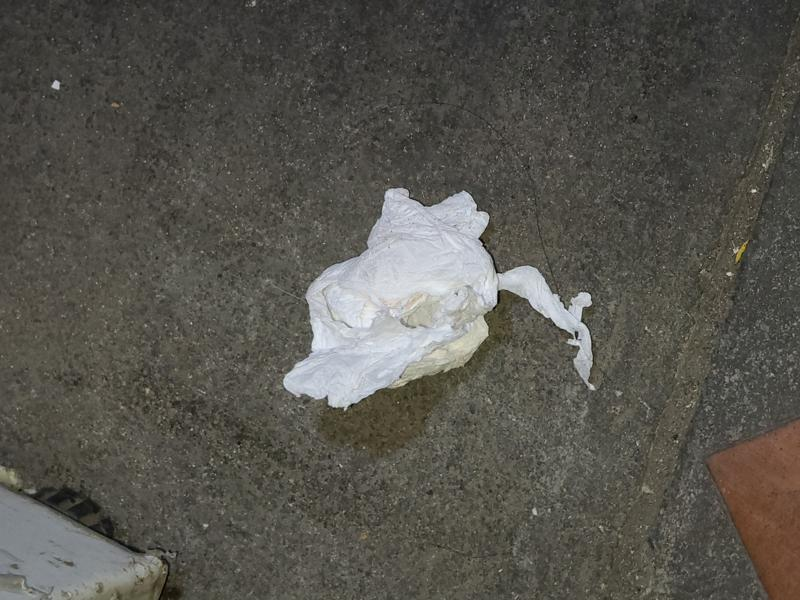papel: (281, 188, 594, 410)
